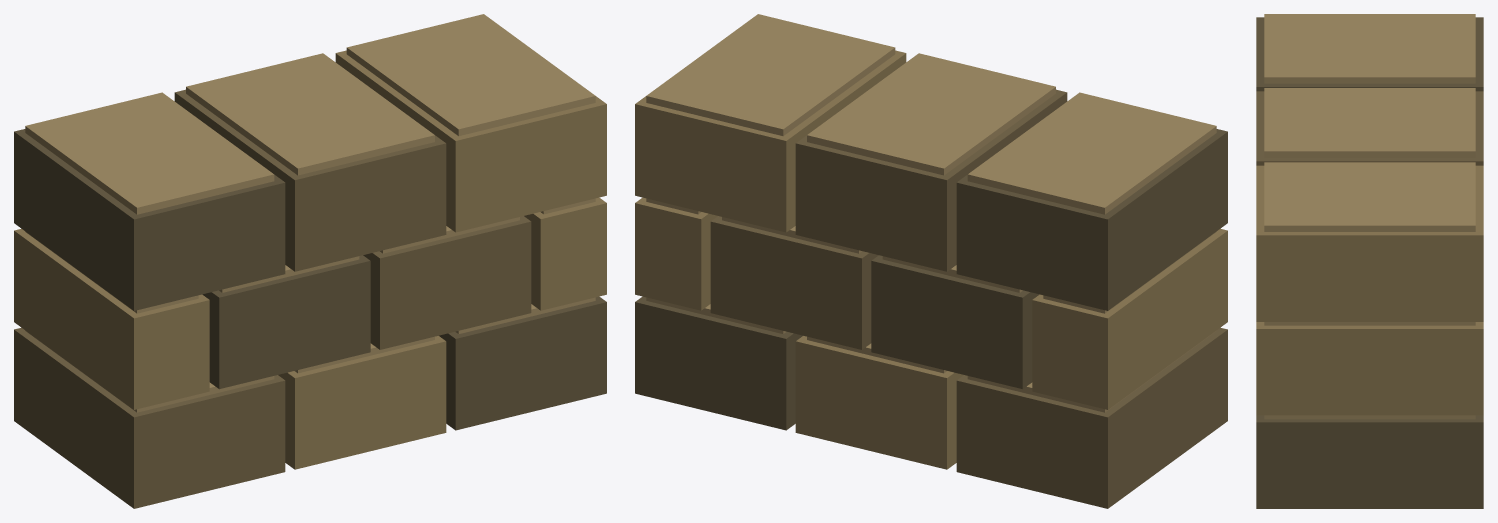
The model's file is CMU3DSandbagBarricade.glb.
The picture shows the model from 3 angles, left to right: view 1: azimuth 30°, elevation 25°; view 2: azimuth 150°, elevation 25°; view 3: azimuth 270°, elevation 25°; orthographic projection. The views are drawn at different scales.
Visible parts, largest first — view 1: filled sandbag (×10), bag top seam (×4); view 2: filled sandbag (×10), bag top seam (×4); view 3: filled sandbag (×5), bag top seam (×5).
Part boxes in pixels (x1,y1,x2,y2): filled sandbag (×10): [14, 50, 606, 508]; bag top seam (×4): [25, 14, 595, 412]; filled sandbag (×10): [635, 50, 1227, 508]; bag top seam (×4): [646, 14, 1216, 412]; filled sandbag (×5): [1256, 17, 1483, 508]; bag top seam (×5): [1264, 14, 1475, 419].
Bounding box in the file's own units: 1 × 0.599 × 0.44.
